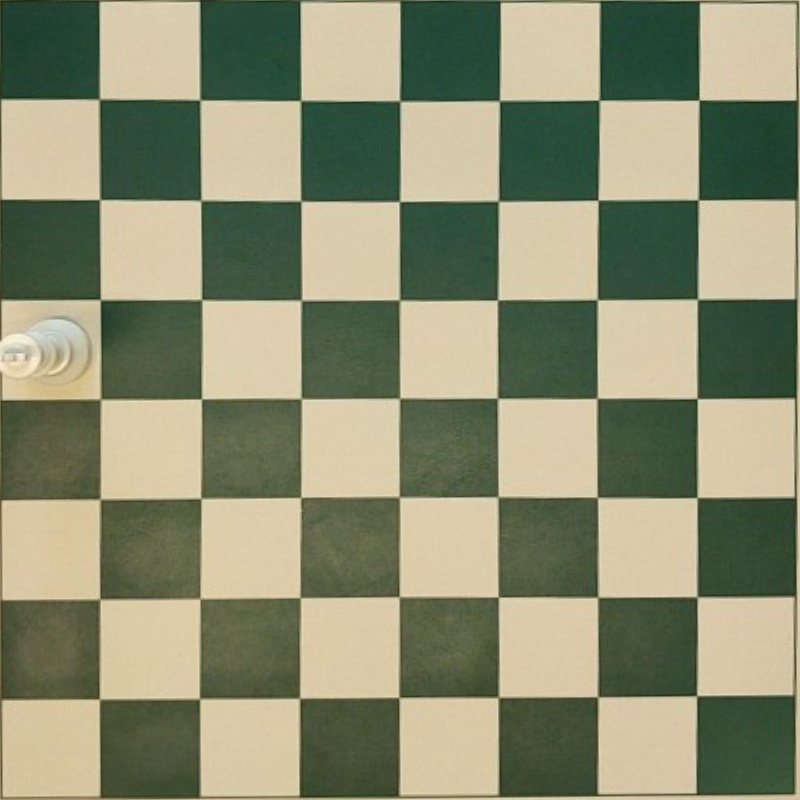white-king: (0, 317, 88, 381)
